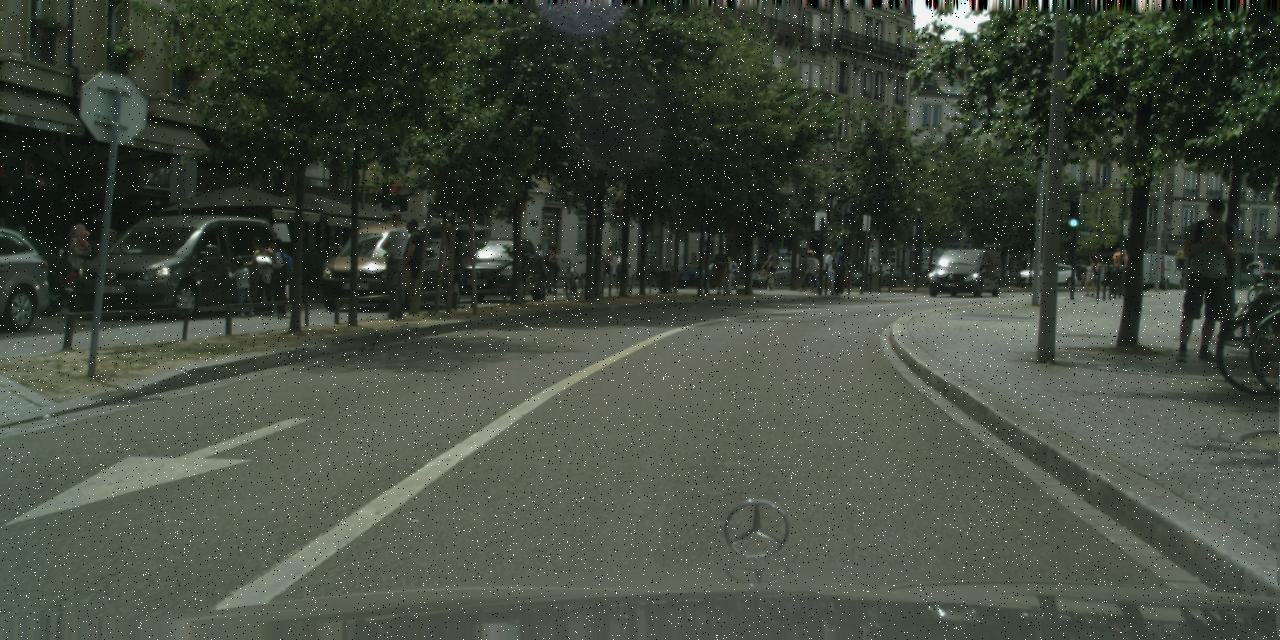ped: (1169, 197, 1237, 362), (373, 212, 416, 319), (390, 219, 429, 315), (262, 236, 294, 318), (246, 238, 276, 314), (64, 224, 90, 288), (97, 229, 121, 289), (231, 258, 255, 316), (829, 244, 850, 294), (542, 246, 562, 294), (711, 247, 730, 294), (822, 248, 841, 294), (612, 248, 630, 294), (599, 244, 617, 290), (590, 248, 608, 292), (800, 248, 818, 292), (805, 252, 821, 292), (1092, 257, 1108, 297), (1081, 256, 1097, 296), (1249, 257, 1265, 296), (1108, 248, 1124, 284), (533, 243, 548, 281), (766, 251, 779, 285), (542, 245, 555, 278), (1118, 249, 1130, 281), (1073, 260, 1084, 286), (1077, 261, 1087, 285)
